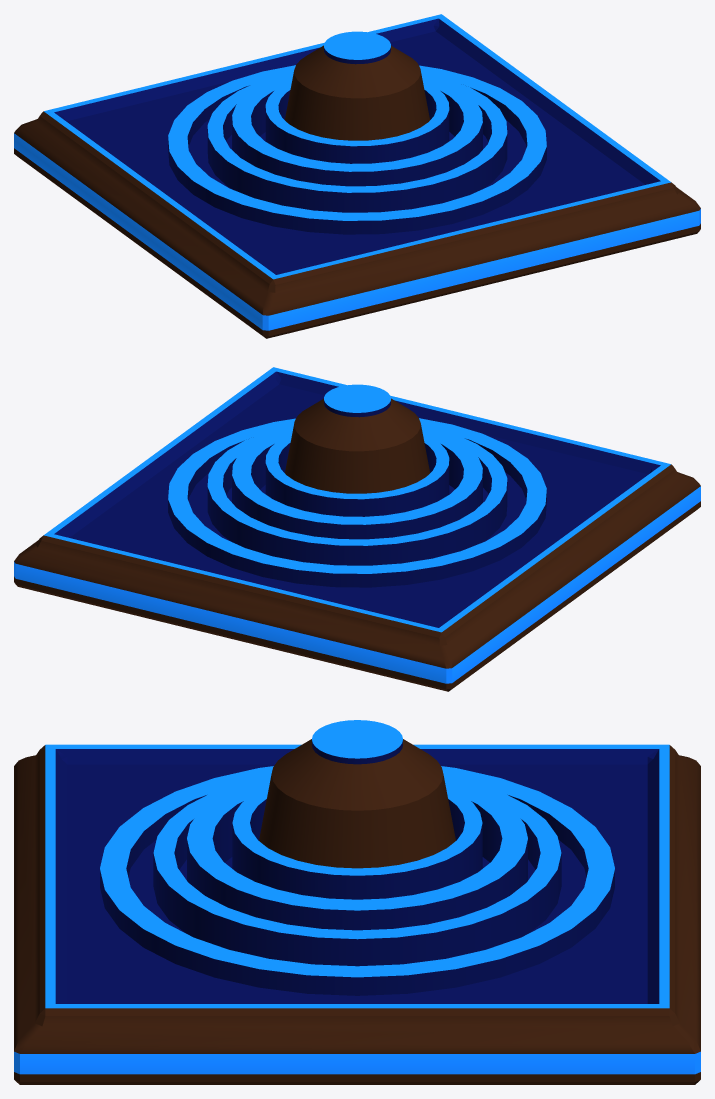
The model's file is Slow Trap.fbx.
3 renders of one model, top to bottom at view 1: azimuth 30°, elevation 25°; view 2: azimuth 150°, elevation 25°; view 3: azimuth 270°, elevation 25°, orthographic. The views are drawn at different scales.
Visible parts, largest first — view 1: Slow Trap; view 2: Slow Trap; view 3: Slow Trap.
Boxes of the visible parts, x1,y1,x2,y2 form: Slow Trap: (14,14,700,338); Slow Trap: (14,367,700,691); Slow Trap: (14,720,700,1084).
Bounding box in the file's own units: 200 × 65.2 × 200.
